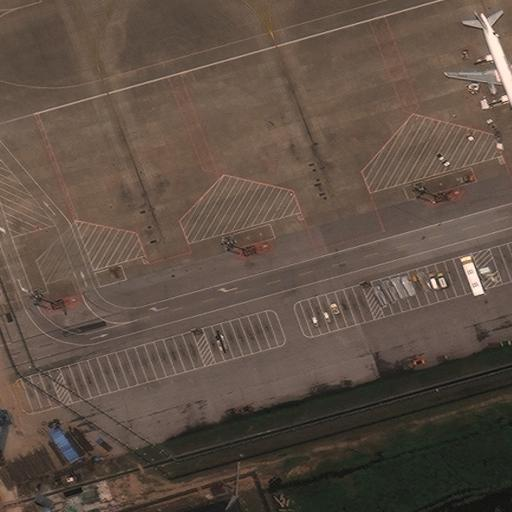Medium Civil Transport: (444, 11, 512, 112)
